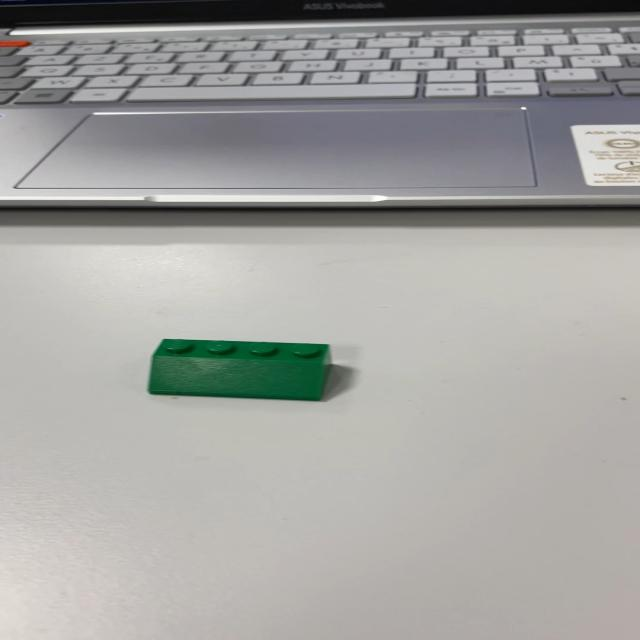P4x2x1: (146, 338, 332, 402)
